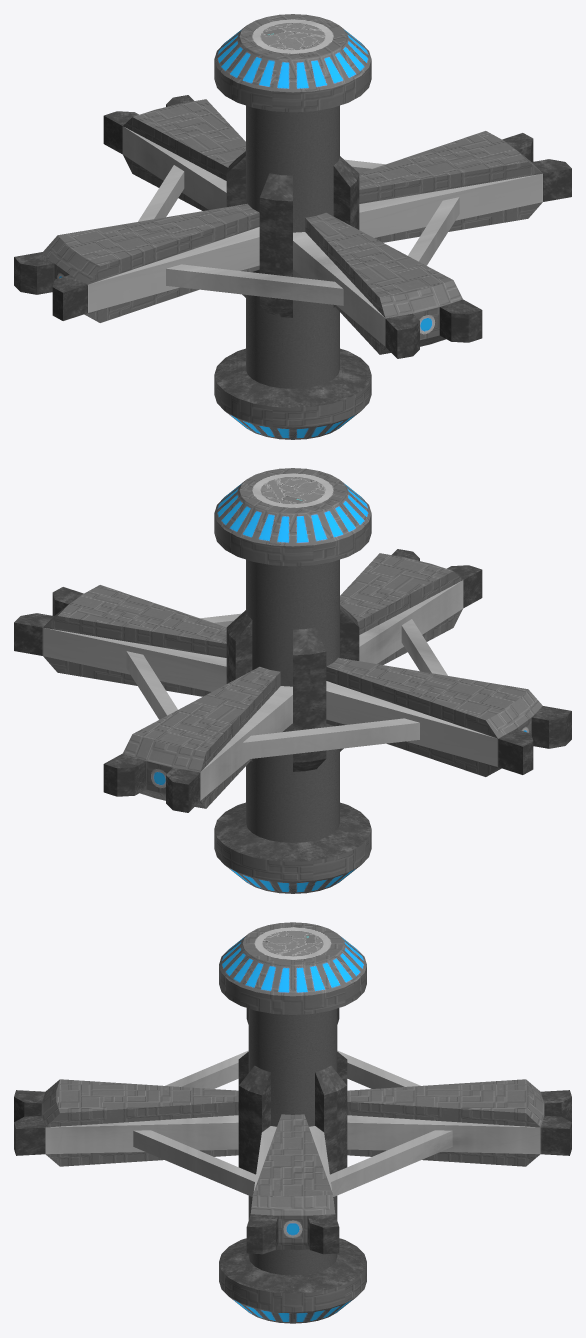
Rendered from station06_base.glb.
The picture shows the model from 3 angles, top to bottom: view 1: azimuth 30°, elevation 25°; view 2: azimuth 150°, elevation 25°; view 3: azimuth 270°, elevation 25°; orthographic projection. The views are drawn at different scales.
Visible parts, largest first — view 1: Base_LP_Cylinder2_default.001; view 2: Base_LP_Cylinder2_default.001; view 3: Base_LP_Cylinder2_default.001.
Boxes of the visible parts, x1,y1,x2,y2 form: Base_LP_Cylinder2_default.001: [14, 14, 571, 439]; Base_LP_Cylinder2_default.001: [14, 468, 571, 893]; Base_LP_Cylinder2_default.001: [14, 922, 571, 1323].
Bounding box in the file's own units: 18.89 × 13.4 × 18.89.
1 material, 1 textured.
